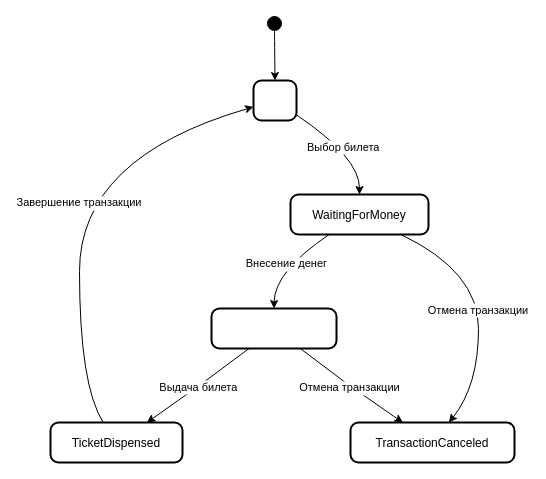
Some shapes in this 546 by 479 pixel diagram are drawn without their labels. The shapes that lost their labels are listed below. From the top down, each one's box as (x1, y1, x2, y2) in pixels, then its label:
(252, 79, 297, 121): Idle
(210, 307, 337, 349): MoneyReceived
